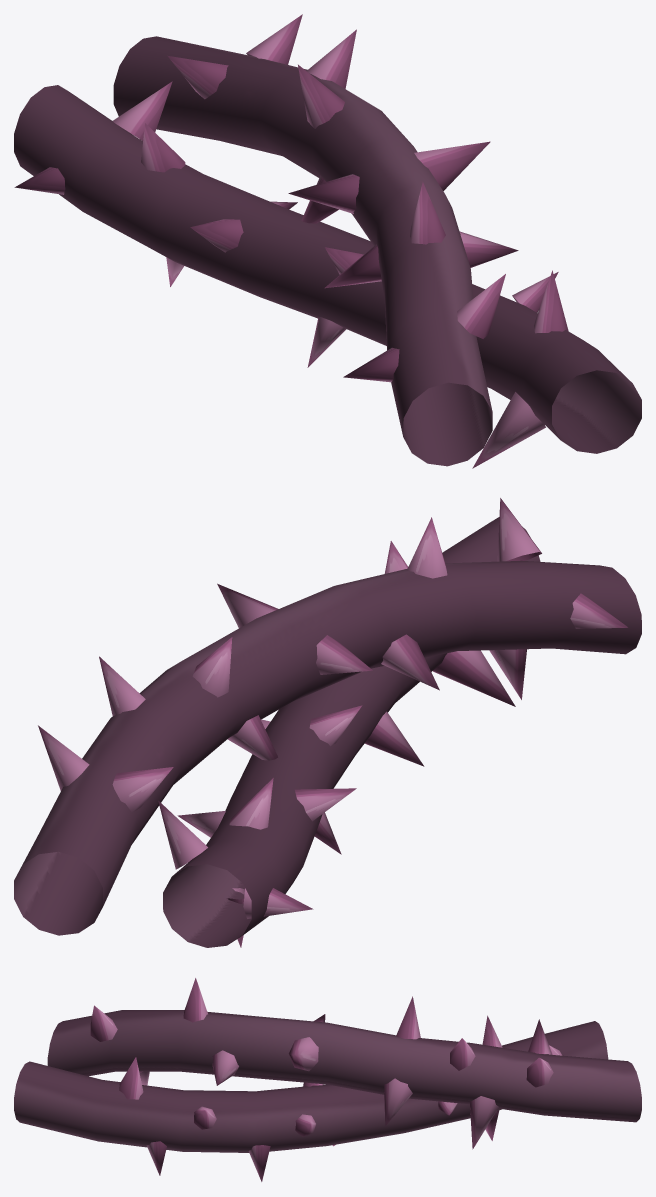
Rendered from Spikes_Curved.fbx.
3 renders of one model, top to bottom at view 1: azimuth 30°, elevation 25°; view 2: azimuth 150°, elevation 25°; view 3: azimuth 270°, elevation 25°, orthographic. The views are drawn at different scales.
Parts seen in each view (by area): view 1: SpikeStrip_Curved; view 2: SpikeStrip_Curved; view 3: SpikeStrip_Curved.
Part boxes in pixels (x1,y1,x2,y2): SpikeStrip_Curved: (14,14,641,468); SpikeStrip_Curved: (14,498,641,947); SpikeStrip_Curved: (14,978,641,1181).
Bounding box in the file's own units: 81.3 × 66.9 × 218.
